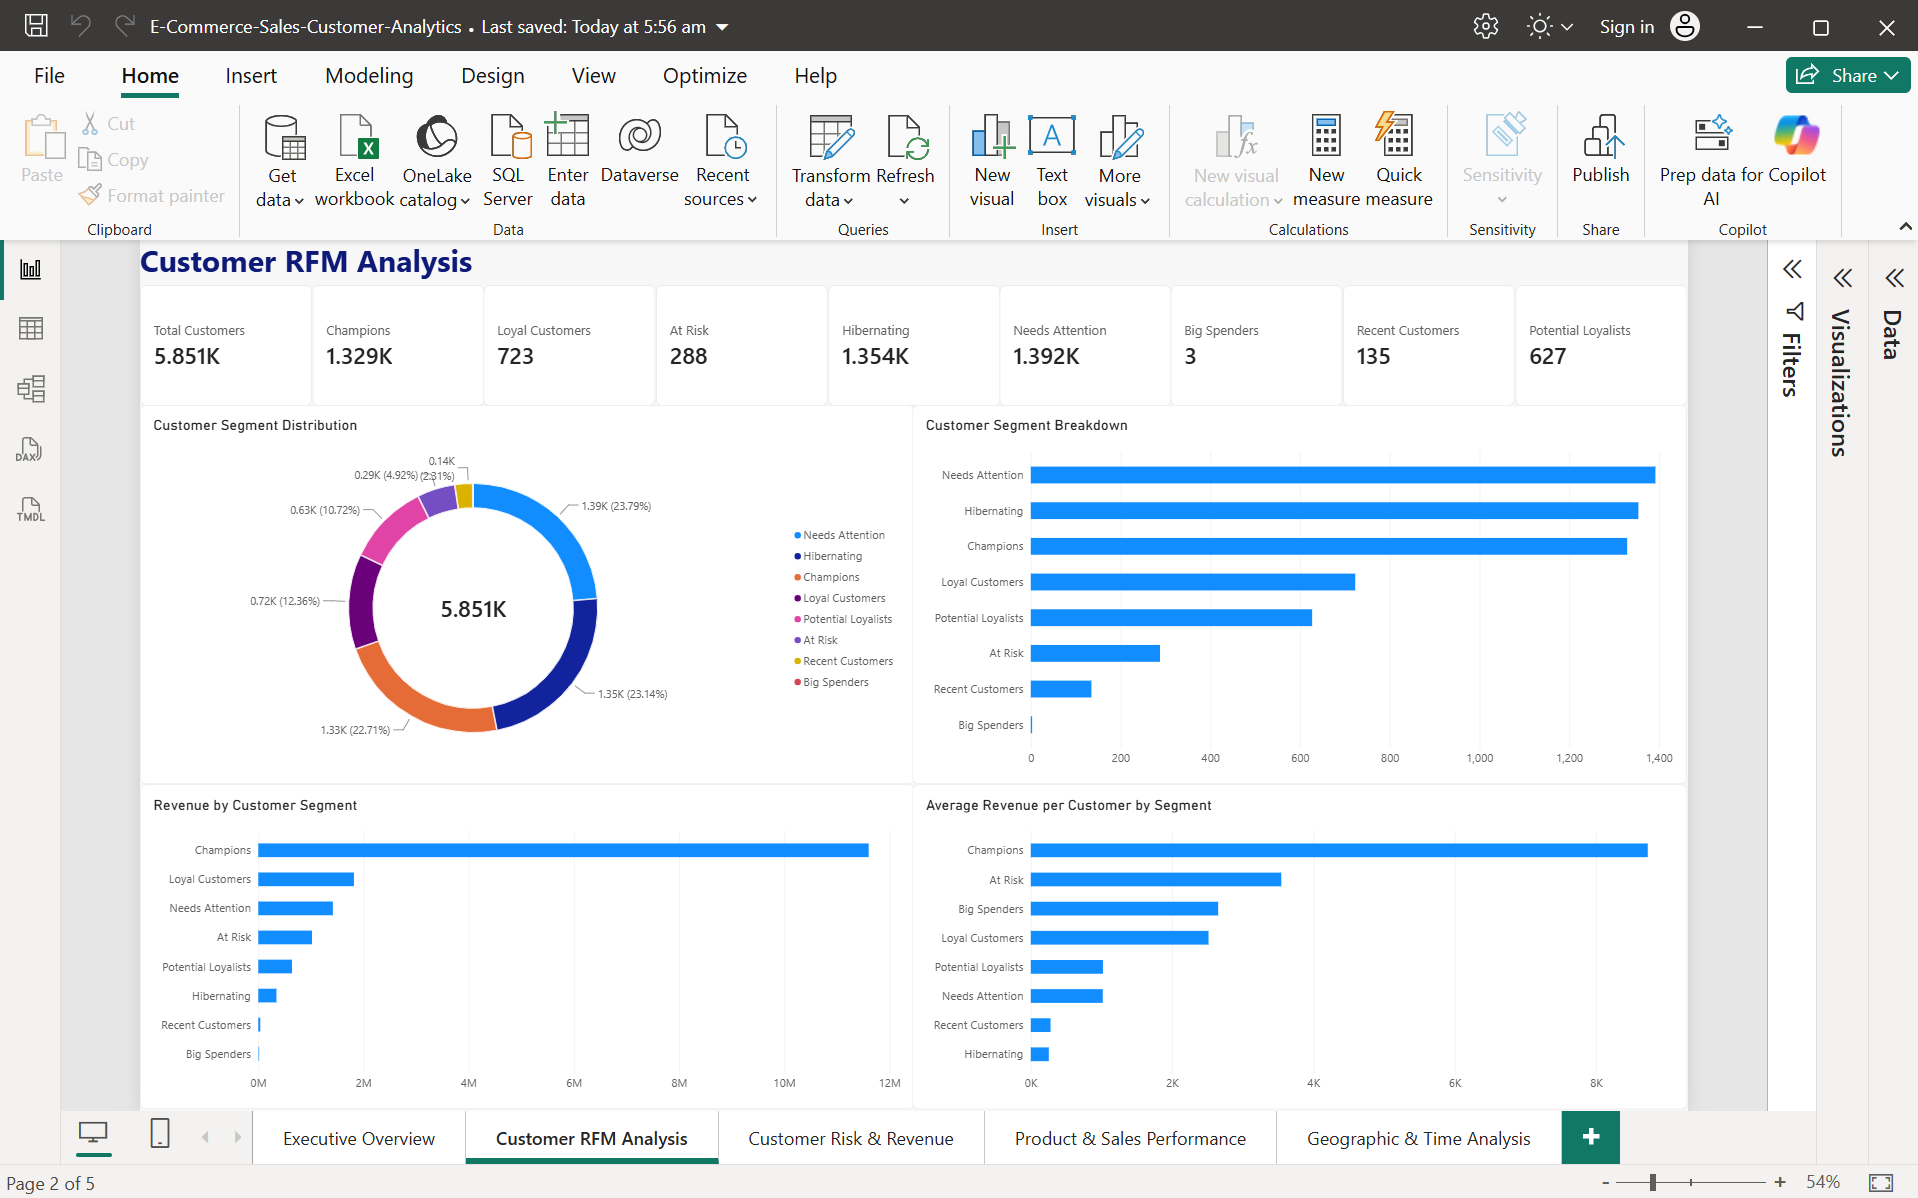

Layout of this report page (visuals, bound fields, positions):
{"tool":"powerbi","page":{"name":"Customer RFM Analysis","canvas":[1920,1080],"ordinal":1},"visuals":[{"type":"textbox","box":[0,0,1919.3,52.2],"z":0},{"type":"cardVisual","fields":{"Data":["Count(ecommerce_analytics rfm_customer_dashboard.customer_id)"]},"box":[0,56.2,213,150],"z":1000},{"type":"cardVisual","fields":{"Data":["Count(ecommerce_analytics rfm_customer_dashboard.customer_id)"]},"box":[213,56.2,213,150],"z":2000},{"type":"cardVisual","fields":{"Data":["Count(ecommerce_analytics rfm_customer_dashboard.customer_id)"]},"box":[425.8,55.8,213,150],"z":2001},{"type":"cardVisual","fields":{"Data":["Count(ecommerce_analytics rfm_customer_dashboard.customer_id)"]},"box":[639.1,56.2,213,150.7],"z":2002},{"type":"cardVisual","fields":{"Data":["Count(ecommerce_analytics rfm_customer_dashboard.customer_id)"]},"box":[854.1,56.2,213,150.7],"z":2003},{"type":"cardVisual","fields":{"Data":["Count(ecommerce_analytics rfm_customer_dashboard.customer_id)"]},"box":[1065.2,56.2,213,150.7],"z":2004},{"type":"cardVisual","fields":{"Data":["Count(ecommerce_analytics rfm_customer_dashboard.customer_id)"]},"box":[1278.3,56.2,213,150.7],"z":2005},{"type":"cardVisual","fields":{"Data":["Count(ecommerce_analytics rfm_customer_dashboard.customer_id)"]},"box":[1491.3,56.2,213,150],"z":2006},{"type":"cardVisual","fields":{"Data":["Count(ecommerce_analytics rfm_customer_dashboard.customer_id)"]},"box":[1706.3,56.2,213,150],"z":2007},{"type":"donutChart","title":"Customer Segment Distribution","fields":{"Category":["ecommerce_analytics rfm_customer_dashboard.customer_segment"],"Y":["Count(ecommerce_analytics rfm_customer_dashboard.customer_id)"]},"box":[0,205.3,960.8,470.2],"z":2008},{"type":"clusteredBarChart","title":"Customer Segment Breakdown","fields":{"Category":["ecommerce_analytics rfm_customer_dashboard.customer_segment"],"Y":["Count(ecommerce_analytics rfm_customer_dashboard.customer_id)"]},"box":[958.7,205.3,960,470.2],"z":2009},{"type":"clusteredBarChart","title":"Revenue by Customer Segment","fields":{"Category":["ecommerce_analytics rfm_customer_dashboard.customer_segment"],"Y":["Sum(cleaned_sales.revenue)"]},"box":[0,675.9,960.8,402],"z":2010},{"type":"clusteredBarChart","title":"Average Revenue per Customer by Segment","fields":{"Category":["ecommerce_analytics rfm_customer_dashboard.customer_segment"],"Y":["cleaned_sales.Revenue per Customer"]},"box":[958.7,675.9,960.7,402.9],"z":2011}]}

Visuals, with their boxes on the page's 1920x1080 design canvas (x1, y1, x2, y2). These are canvas units, not pixel positions in the 1918x1198 screenshot, which may show the page scaled, cropped or inside an application window:
textbox: l=0, t=0, r=1919, b=52
cardVisual - Count(ecommerce_analytics rfm_customer_dashboard.customer_id): l=0, t=56, r=213, b=206
cardVisual - Count(ecommerce_analytics rfm_customer_dashboard.customer_id): l=213, t=56, r=426, b=206
cardVisual - Count(ecommerce_analytics rfm_customer_dashboard.customer_id): l=426, t=56, r=639, b=206
cardVisual - Count(ecommerce_analytics rfm_customer_dashboard.customer_id): l=639, t=56, r=852, b=207
cardVisual - Count(ecommerce_analytics rfm_customer_dashboard.customer_id): l=854, t=56, r=1067, b=207
cardVisual - Count(ecommerce_analytics rfm_customer_dashboard.customer_id): l=1065, t=56, r=1278, b=207
cardVisual - Count(ecommerce_analytics rfm_customer_dashboard.customer_id): l=1278, t=56, r=1491, b=207
cardVisual - Count(ecommerce_analytics rfm_customer_dashboard.customer_id): l=1491, t=56, r=1704, b=206
cardVisual - Count(ecommerce_analytics rfm_customer_dashboard.customer_id): l=1706, t=56, r=1919, b=206
"Customer Segment Distribution" donutChart: l=0, t=205, r=961, b=676
"Customer Segment Breakdown" clusteredBarChart: l=959, t=205, r=1919, b=676
"Revenue by Customer Segment" clusteredBarChart: l=0, t=676, r=961, b=1078
"Average Revenue per Customer by Segment" clusteredBarChart: l=959, t=676, r=1919, b=1079
